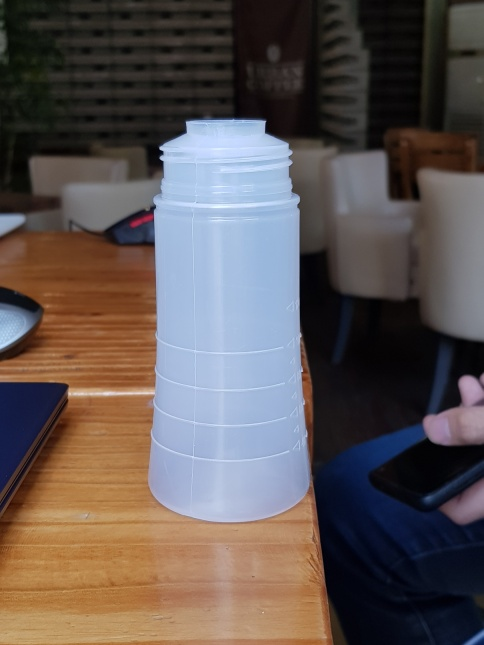Plastic: (131, 108, 318, 529)
